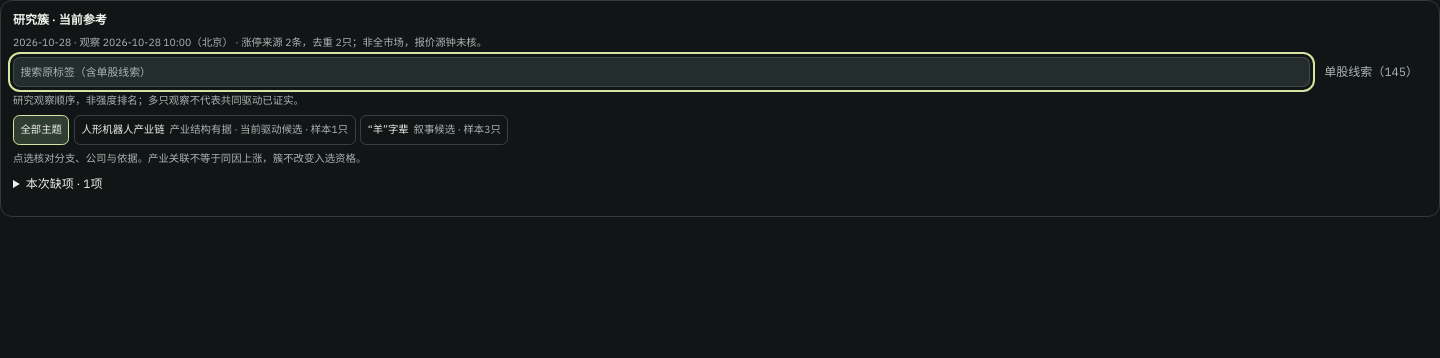
it: large single-stock label sets stay compressed, remain searchable and toggle locally without source reads
Expected: the 4th button is shown, [360,115,508,145]
Expected: the button "原标签144" is not shown
Type "原标签144" into the field named "搜索全部原始题材标签" at (661, 72), box [13,57,1310,87]
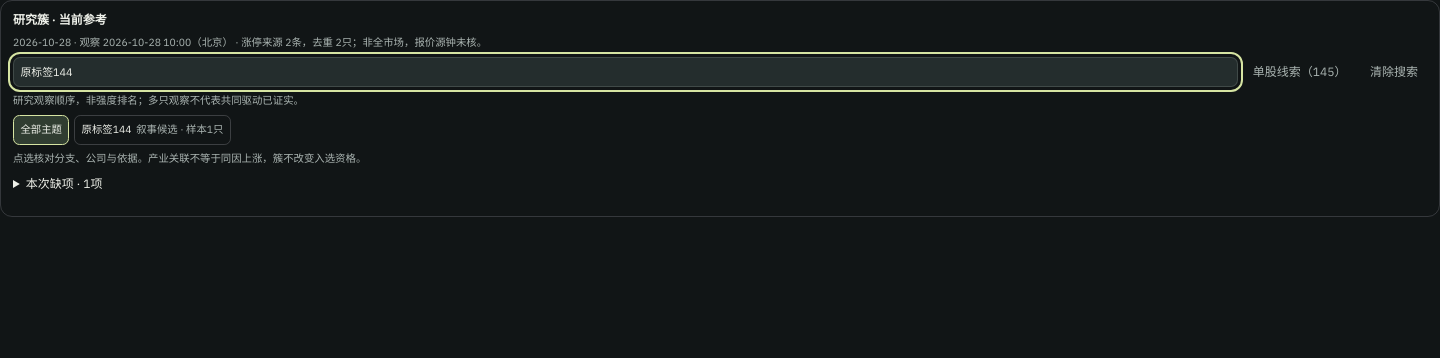
Expected: the button "原标签144叙事候选 · 样本1只" is shown, [74,115,231,145]
Click the button "清除搜索" at (1394, 72), box [1361,57,1427,87]
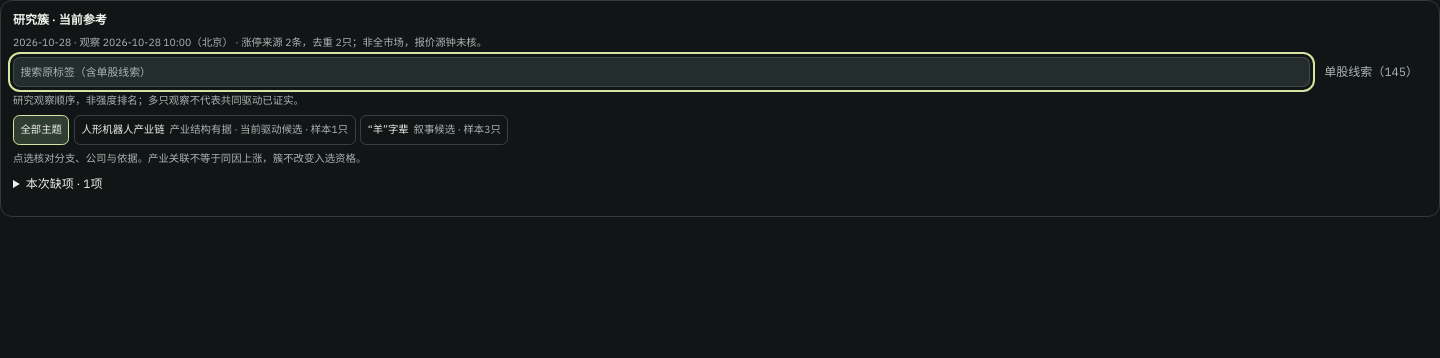
Expected: the button "原标签144" is gone
Click the button "单股线索（145）" at (1371, 72), box [1315,57,1427,87]
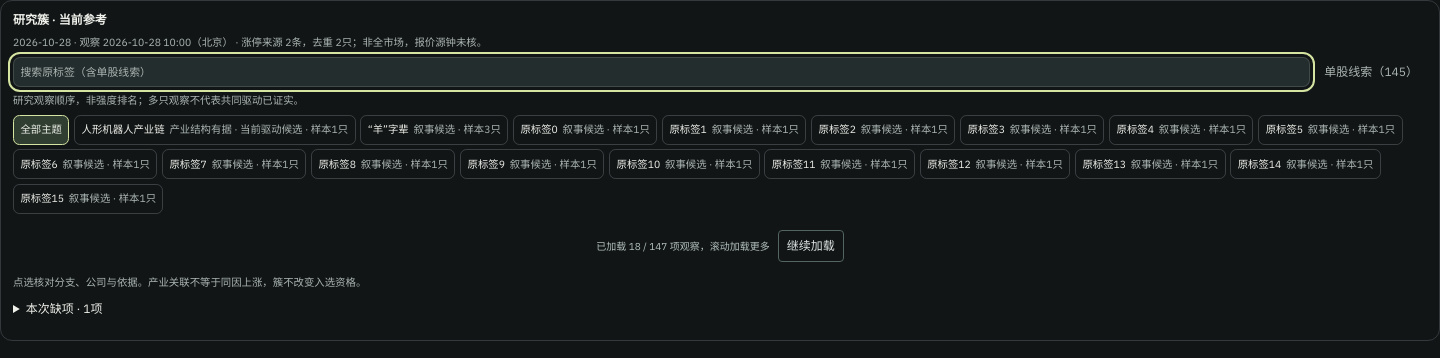
Expected: the text "研究观察顺序，非强度排名；多只观察不代表共同驱动已证实。" is shown, [13,93,304,107]
Expected: the button "原标签0叙事候选 · 样本1只" is shown, [513,115,657,145]
